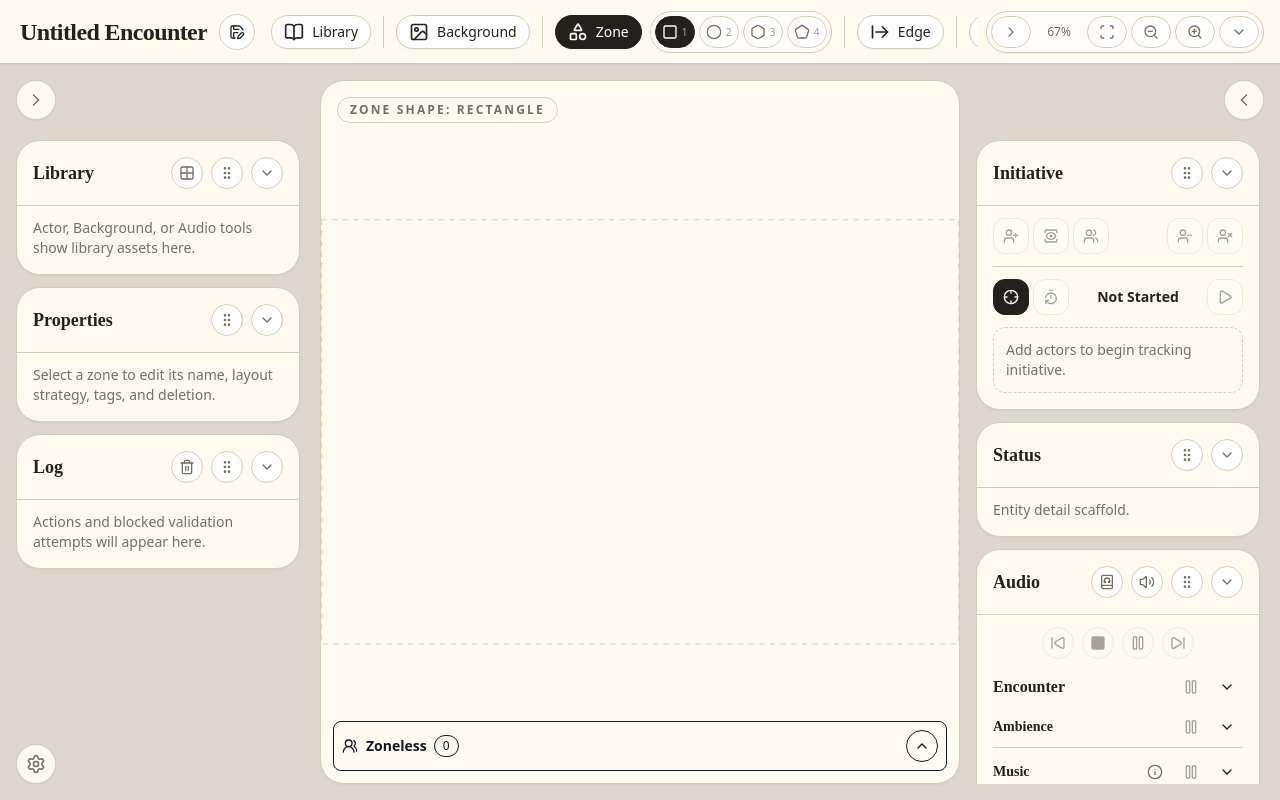
Scenario: persistence import entry points › offers encounter import in the Encounter Library Add menu
What coordinates should you click on to do the following:
click the button "Library"
I would click on:
 (321, 32)
Its box is [271,14,371,48].
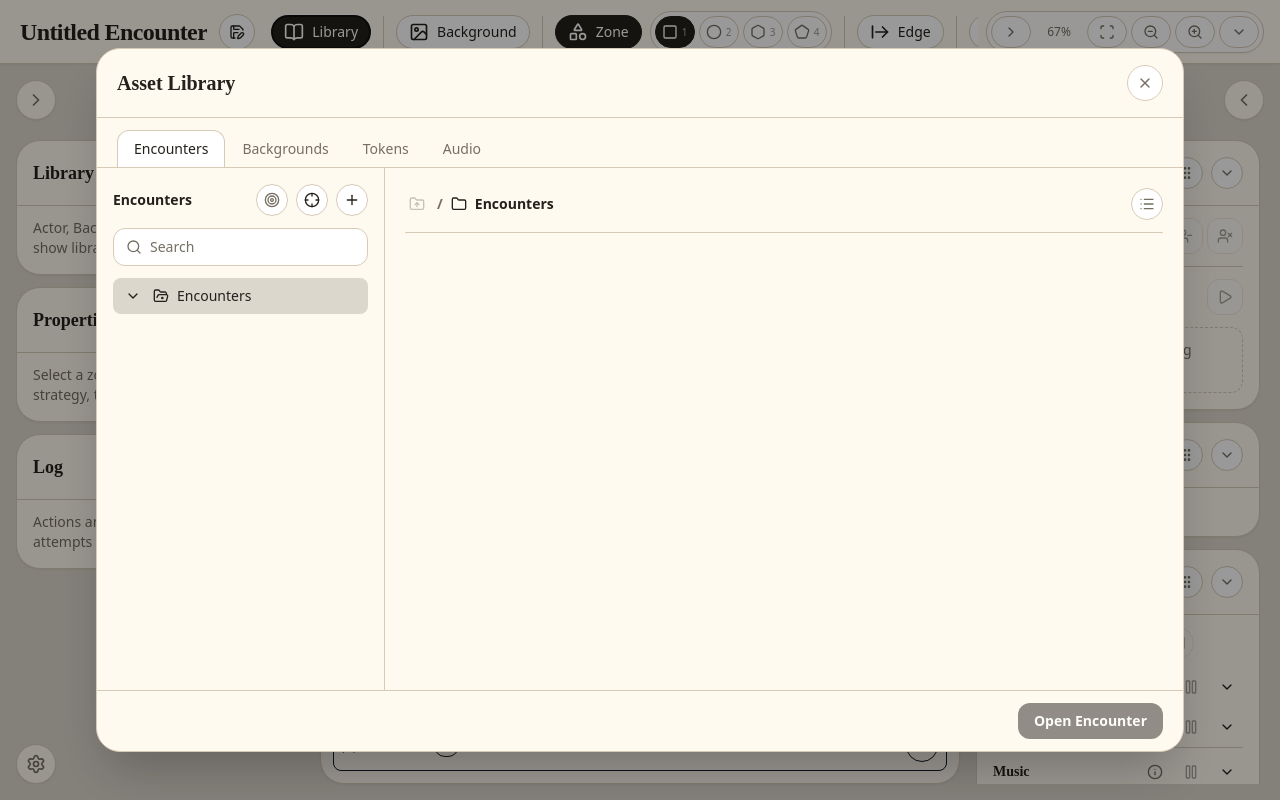
What coordinates should you click on to do the following:
click the button named "Add to Encounters"
I would click on:
 (352, 200)
Its box is [336,184,368,216].
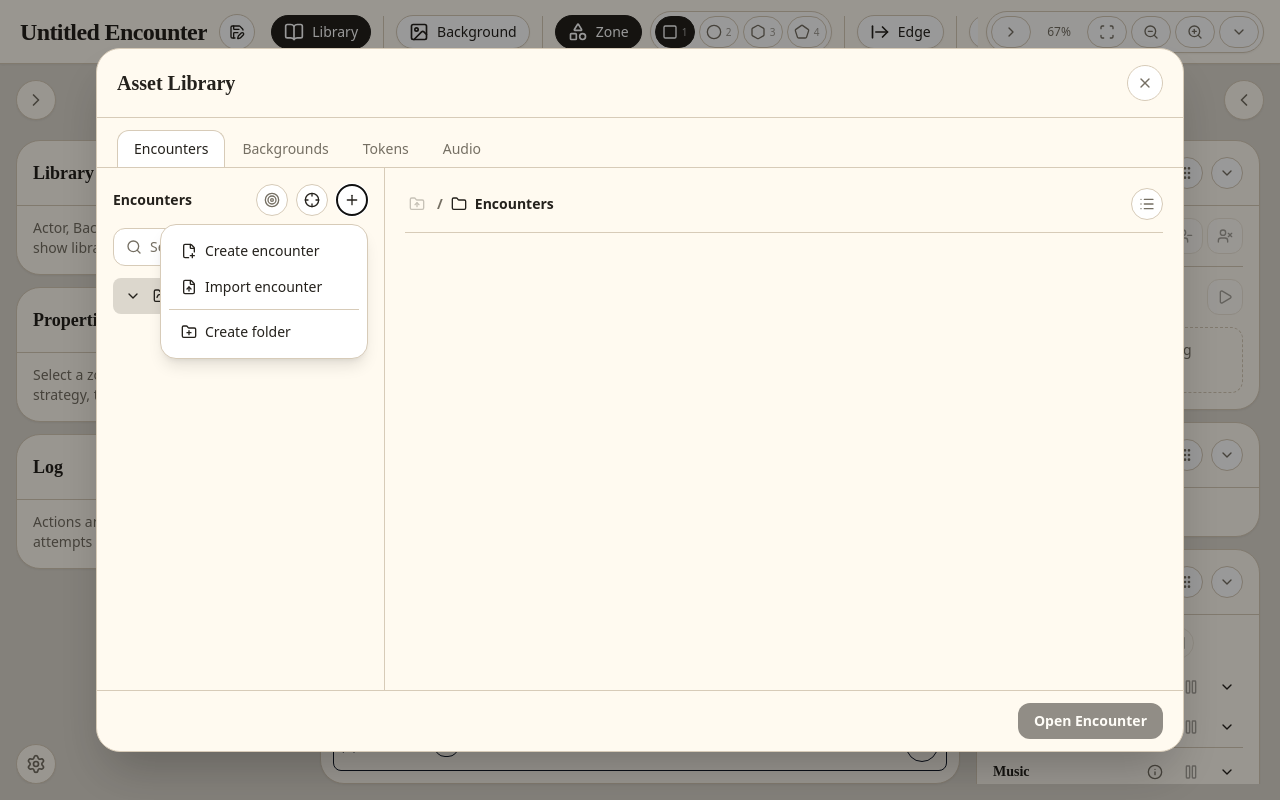
Result: the menu items read "Create encounter", "Import encounter", "Create folder", in this order at [169,233,359,269]; [169,269,359,305]; [169,314,359,350]
